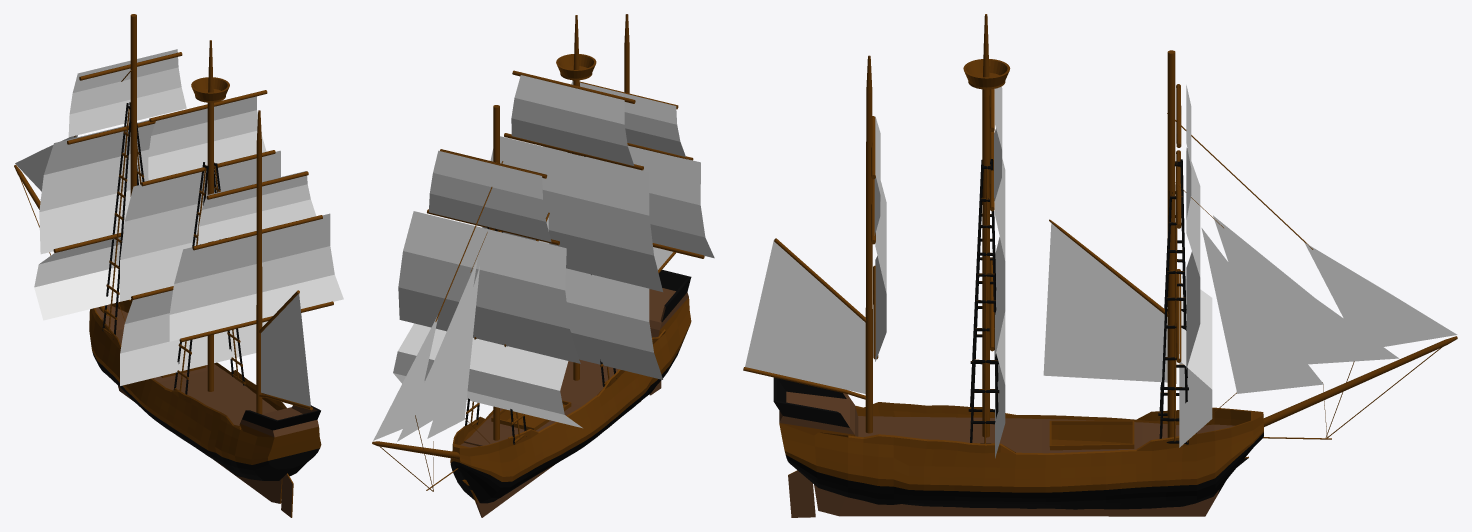
The model's file is Omen.glb.
The picture shows the model from 3 angles, left to right: view 1: azimuth 30°, elevation 25°; view 2: azimuth 150°, elevation 25°; view 3: azimuth 270°, elevation 25°; orthographic projection. The views are drawn at different scales.
Parts seen in each view (by area): view 1: Cube; view 2: Cube; view 3: Cube.
Part boxes in pixels (box(x1,y1,x2,y2)): Cube: box(14, 14, 343, 517); Cube: box(372, 14, 714, 517); Cube: box(743, 14, 1457, 517).
Size of what is drawn, in the model's own units: 1.25 by 2.86 by 3.68.
